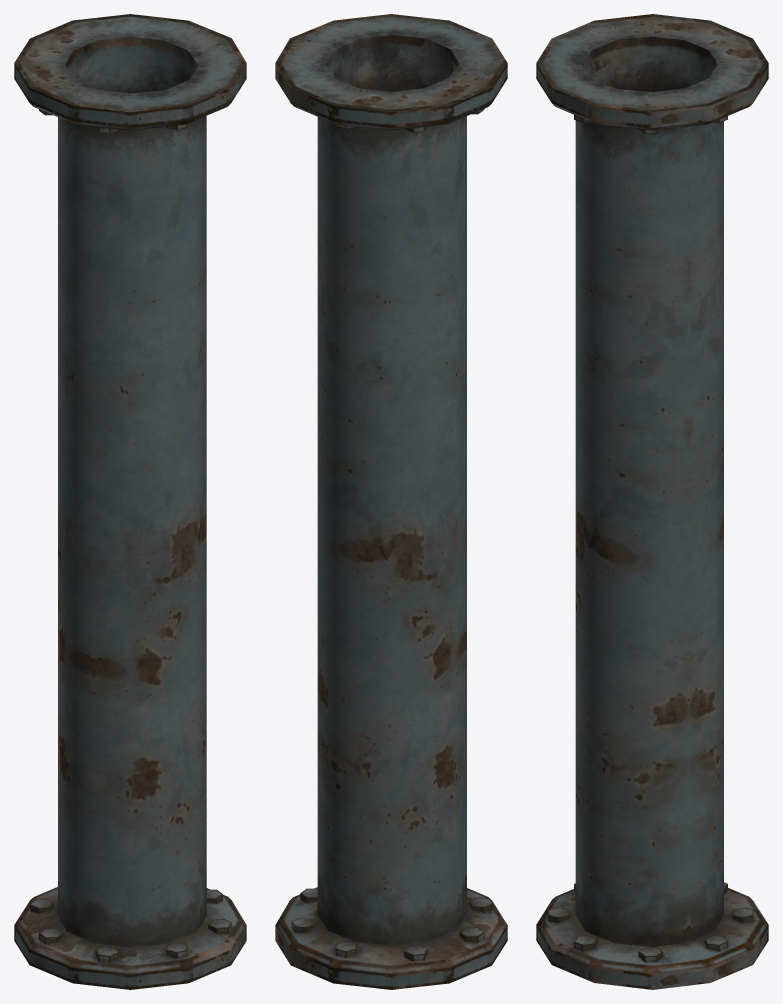
File: modular_industrial_pipes_01_pipe01_Game.fbx
3 renders of one model, left to right at view 1: azimuth 30°, elevation 25°; view 2: azimuth 150°, elevation 25°; view 3: azimuth 270°, elevation 25°, orthographic.
Parts seen in each view (by area): view 1: modular_industrial_pipes_01_pipe01_Game; view 2: modular_industrial_pipes_01_pipe01_Game; view 3: modular_industrial_pipes_01_pipe01_Game.
Part boxes in pixels (bbox=[...]): modular_industrial_pipes_01_pipe01_Game: bbox=[14, 14, 246, 989]; modular_industrial_pipes_01_pipe01_Game: bbox=[275, 14, 507, 989]; modular_industrial_pipes_01_pipe01_Game: bbox=[536, 14, 768, 989].
Bounding box in the file's own units: 0.2071 × 0.8591 × 0.2063.
